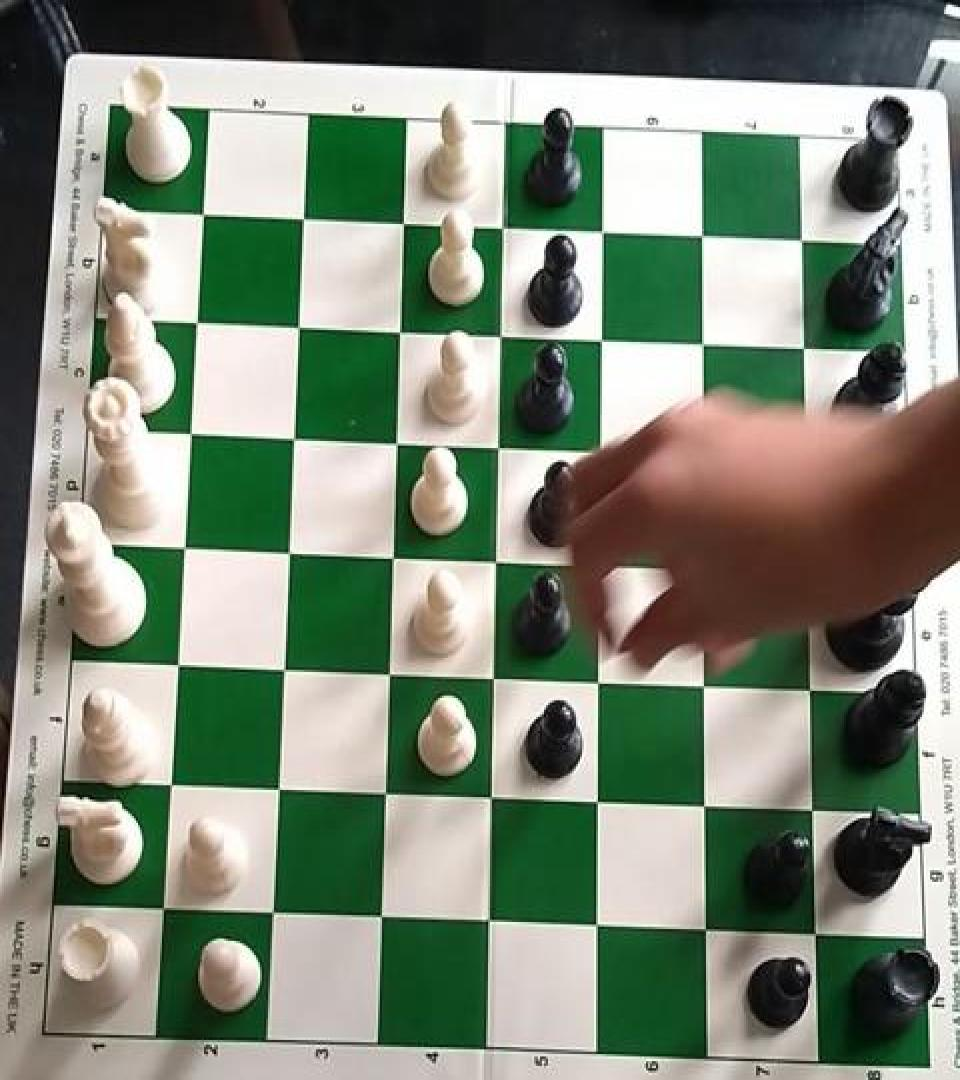xcorner: (685, 218, 721, 261), (586, 213, 622, 256), (386, 205, 422, 248), (285, 200, 321, 243), (787, 330, 823, 373), (484, 317, 520, 360), (383, 312, 419, 355), (687, 437, 723, 480), (379, 423, 415, 466), (791, 555, 827, 598), (584, 547, 620, 590), (480, 542, 516, 585), (166, 529, 202, 572), (794, 672, 830, 715), (689, 668, 725, 711), (478, 659, 514, 702), (160, 646, 196, 689), (796, 792, 832, 835), (583, 784, 619, 827), (476, 780, 512, 823), (261, 771, 297, 814), (798, 916, 834, 959), (473, 904, 509, 947), (255, 896, 291, 939), (146, 891, 182, 934), (785, 223, 821, 265), (486, 209, 522, 251), (185, 196, 221, 238), (686, 327, 722, 369), (585, 322, 621, 364), (281, 308, 317, 350), (179, 303, 215, 345), (789, 441, 825, 483), (585, 433, 621, 475), (482, 428, 518, 470), (276, 419, 312, 461), (173, 415, 209, 457), (688, 551, 724, 593), (376, 538, 412, 580), (271, 533, 307, 575), (583, 664, 619, 706), (372, 656, 408, 698), (266, 651, 302, 693), (689, 789, 725, 831), (368, 776, 404, 818), (153, 768, 189, 810), (690, 913, 726, 955), (582, 908, 618, 950), (364, 900, 400, 942)
